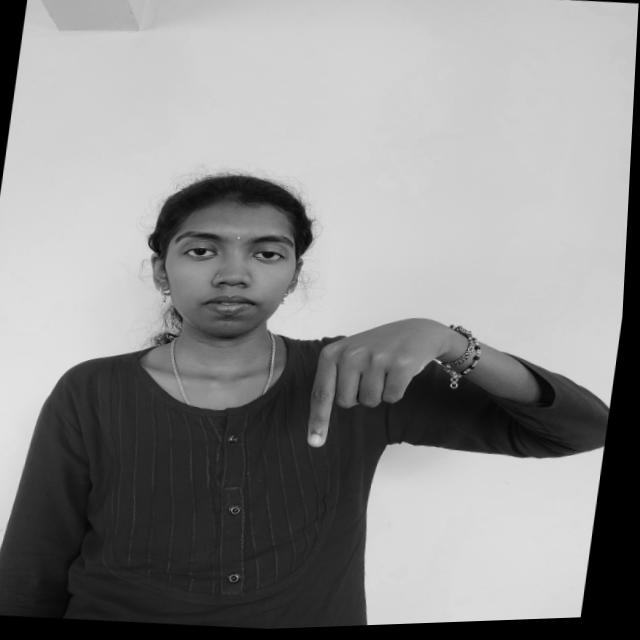Now: (299, 299, 468, 469)
